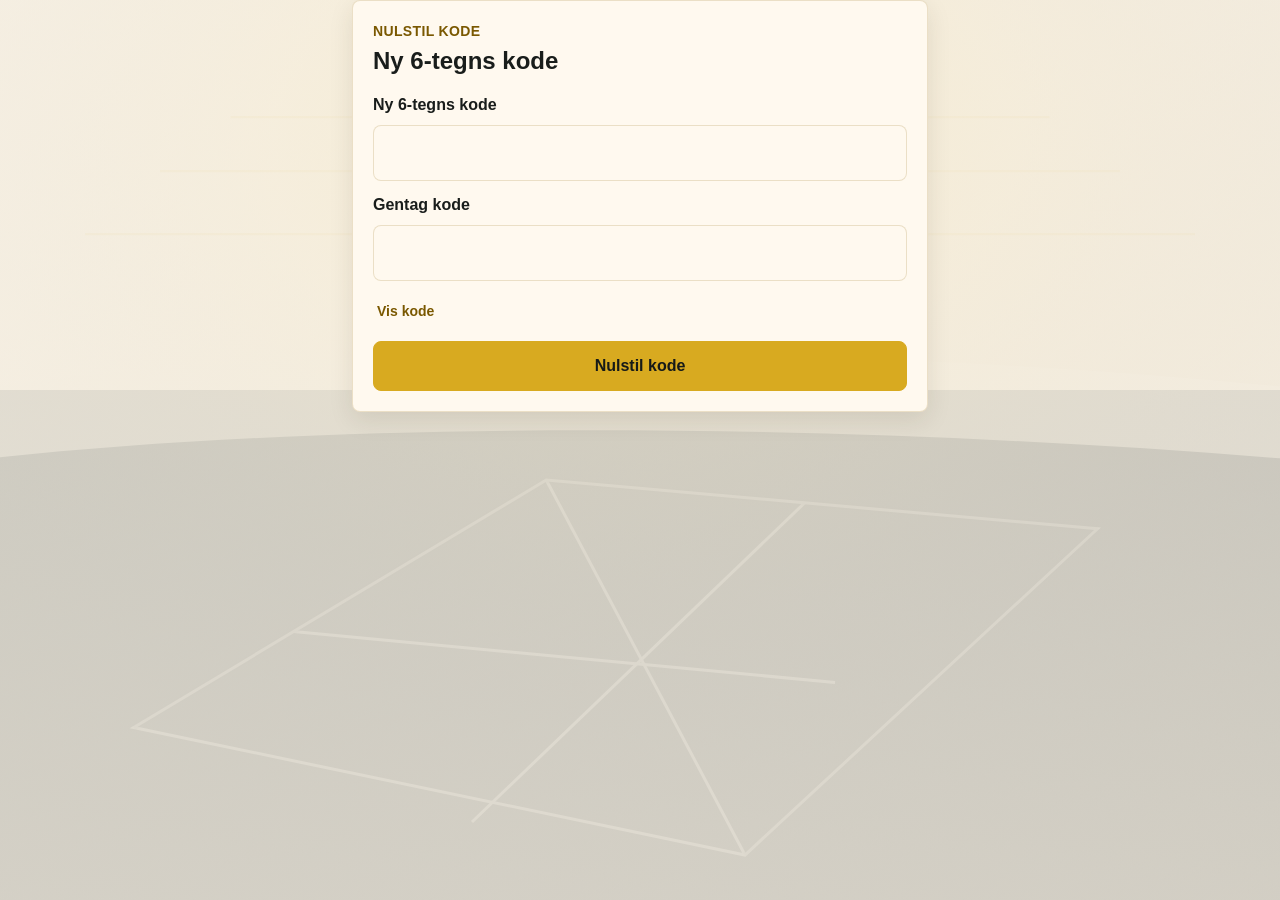
Scenario: STEP 25M account code recovery UI › submits Supabase recovery credentials from the URL hash and removes the hash from the address bar
Type "123456" into the password field labelled "Ny 6-tegns kode" at [640, 153], box [373, 125, 907, 181]
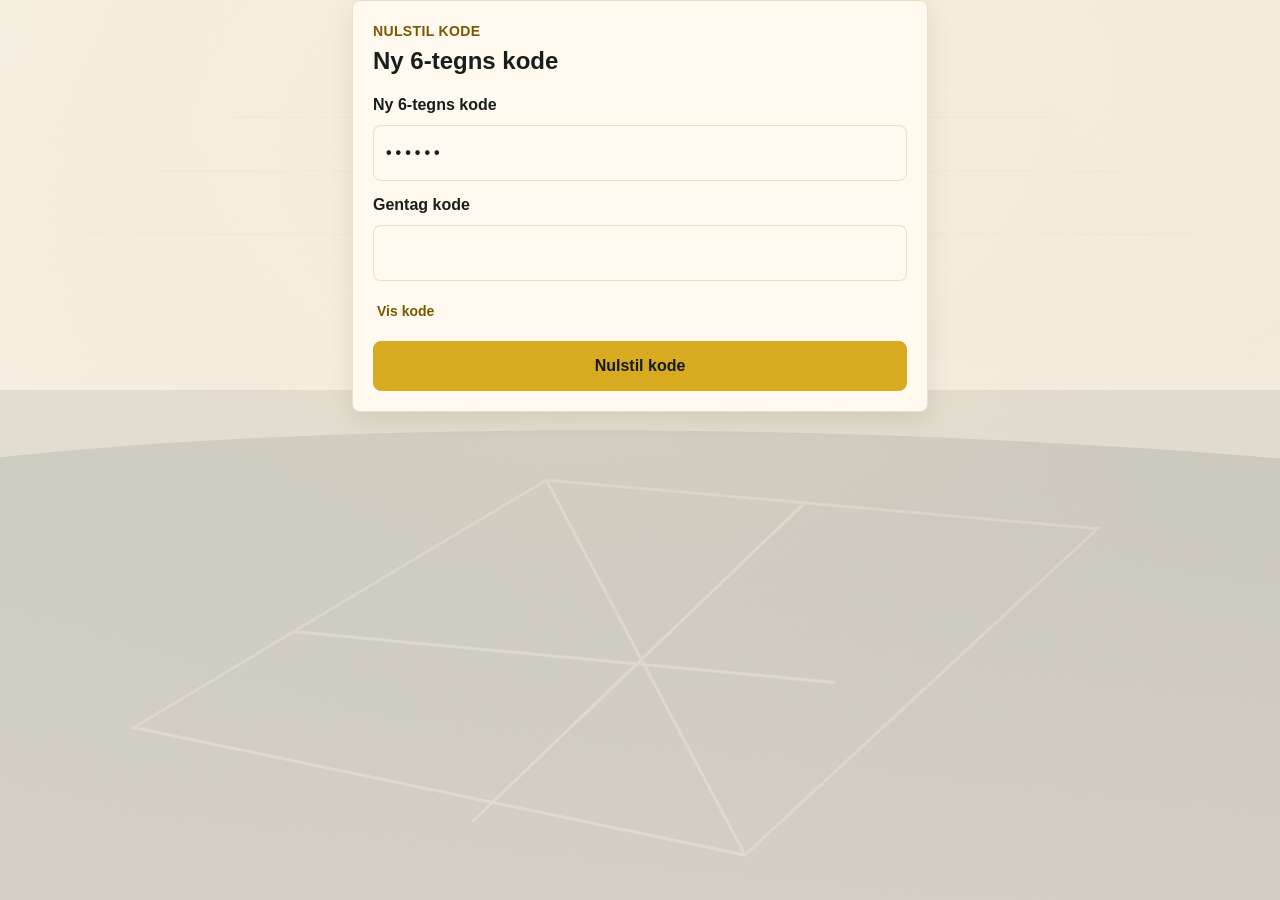
Type "123456" into the password field labelled "Gentag kode" at [640, 253], box [373, 225, 907, 281]
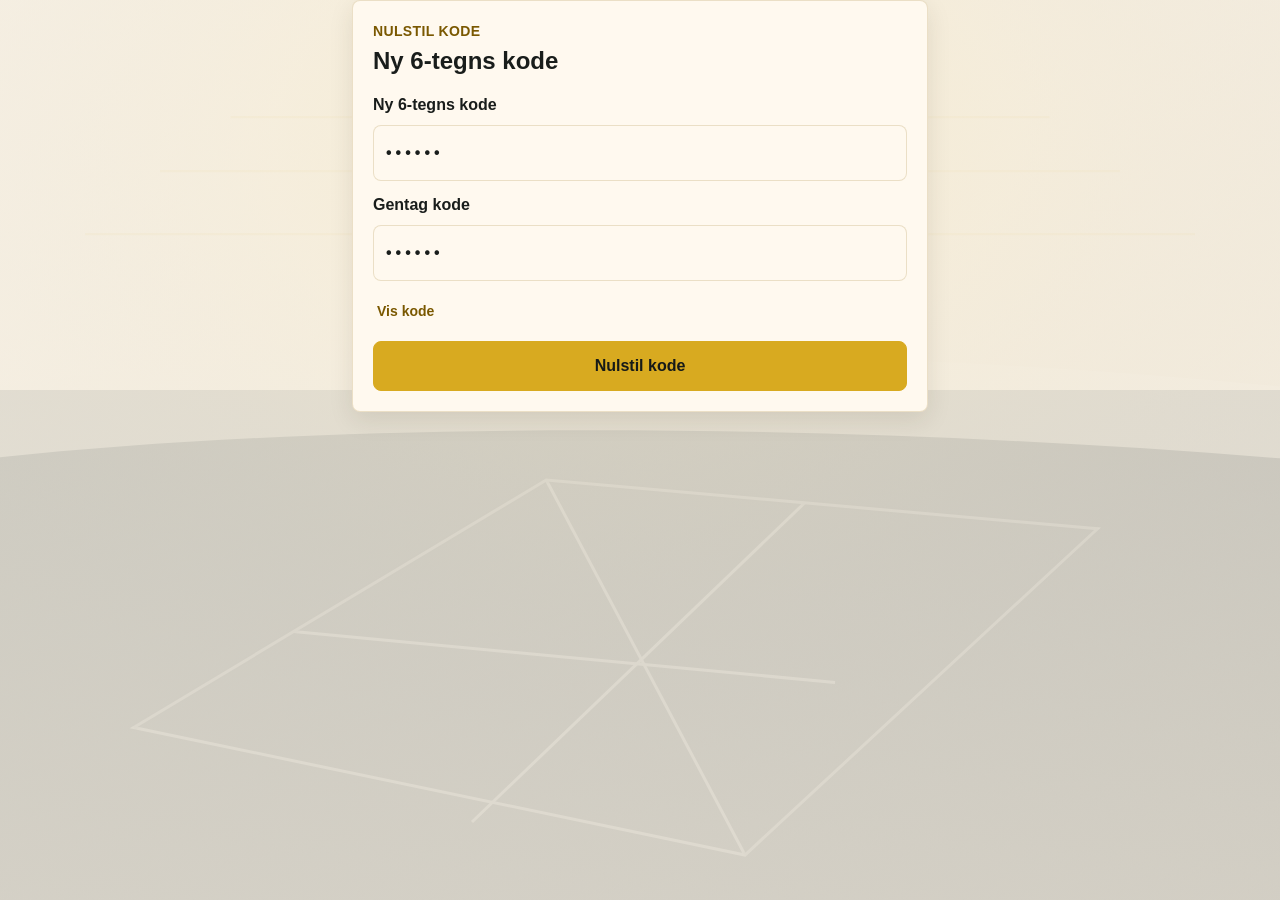
Submit the form "Nulstil kode", box [373, 93, 907, 391]
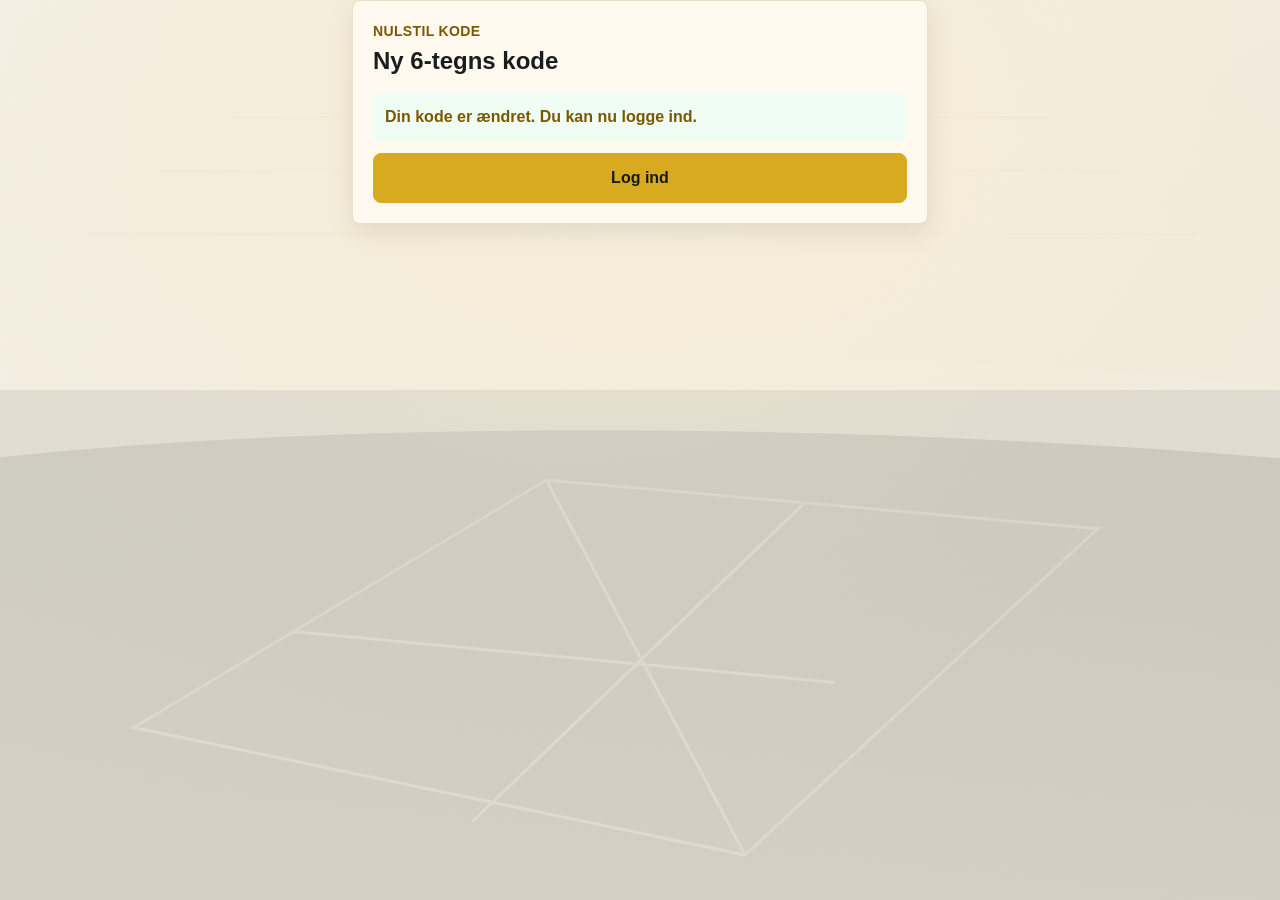
Result: the text "Din kode er ændret. Du kan nu logge ind." is shown at [373, 93, 907, 141]
